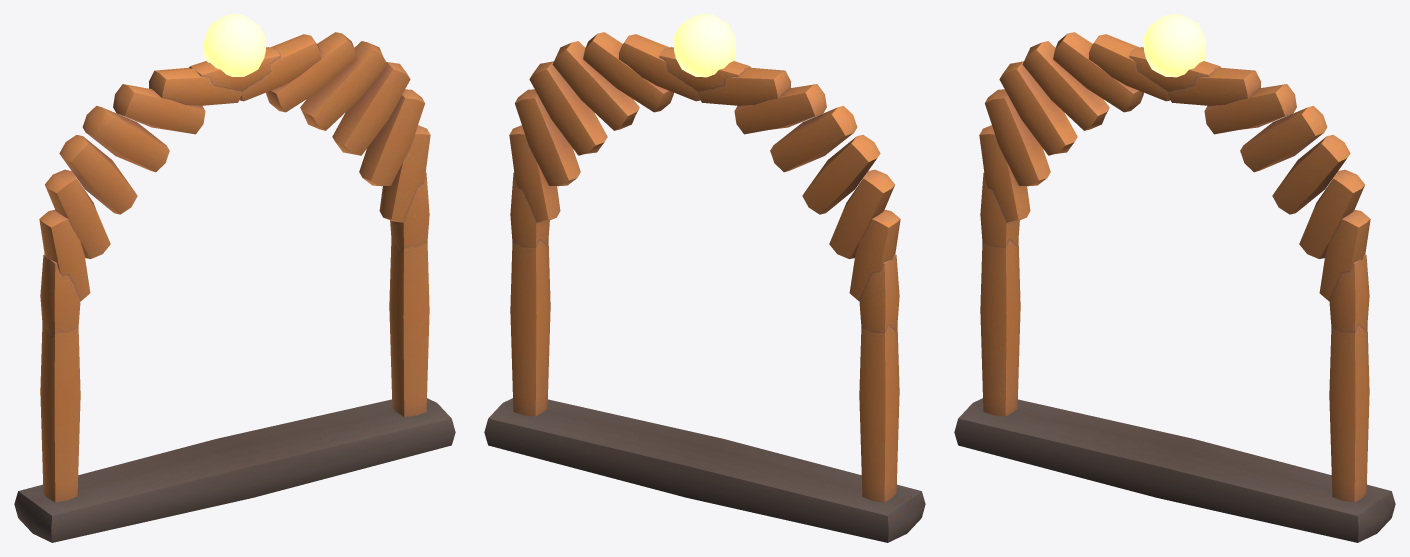
The model's file is magic_frame.glb.
The picture shows the model from 3 angles, left to right: view 1: azimuth 30°, elevation 25°; view 2: azimuth 150°, elevation 25°; view 3: azimuth 330°, elevation 25°; orthographic projection.
Parts seen in each view (by area): view 1: main, glow; view 2: main, glow; view 3: main, glow.
Part boxes in pixels (x1,y1,x2,y2): main: [14, 32, 455, 542]; glow: [204, 14, 265, 76]; main: [484, 32, 925, 542]; glow: [674, 14, 735, 77]; main: [954, 32, 1395, 542]; glow: [1144, 14, 1205, 77].
Bounding box in the file's own units: 5 × 5.44 × 0.9.
2 materials, 1 textured.
